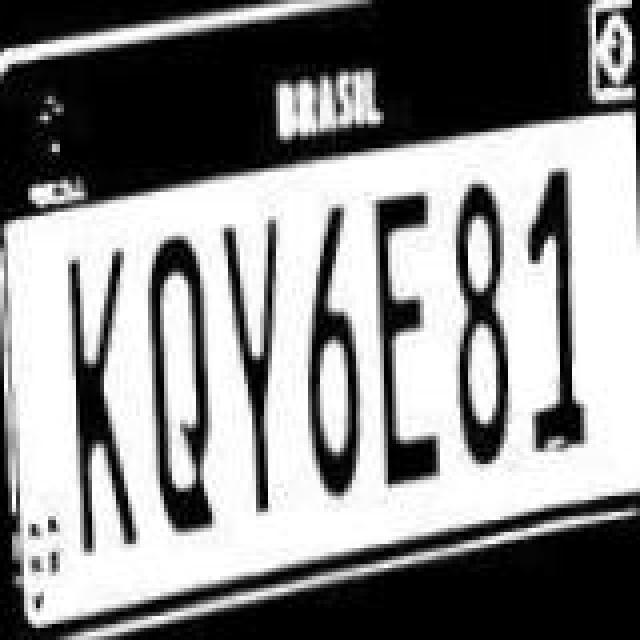1: (512, 160, 592, 456)
6: (292, 196, 368, 504)
8: (444, 178, 516, 470)
E: (366, 188, 442, 492)
K: (58, 242, 138, 558)
Q: (136, 228, 220, 536)
Y: (216, 208, 292, 520)
